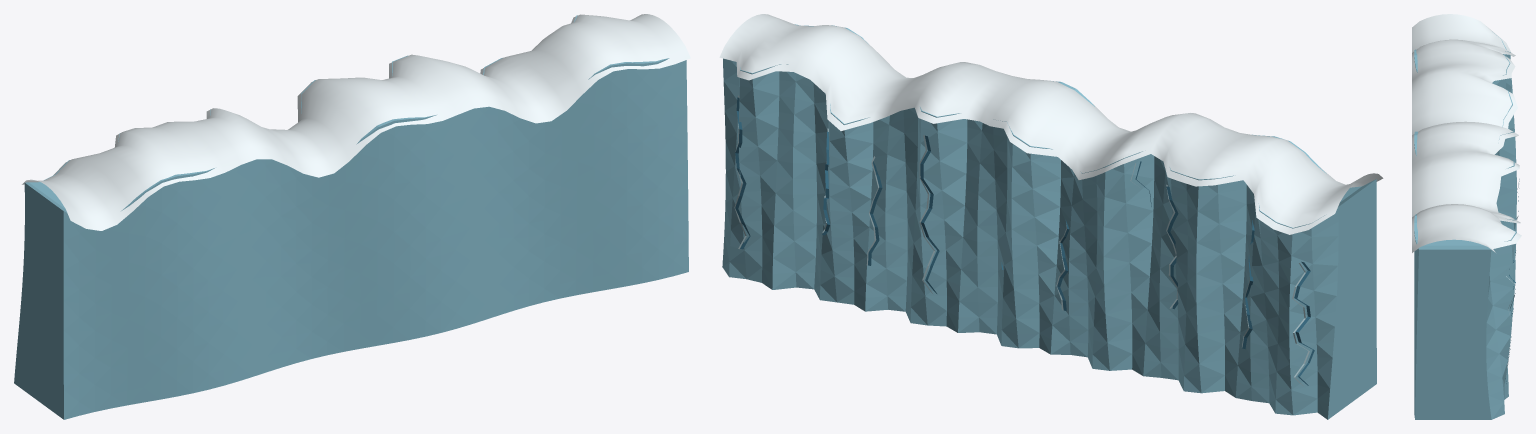
The model's file is ice-wall.glb.
3 renders of one model, left to right at view 1: azimuth 30°, elevation 25°; view 2: azimuth 150°, elevation 25°; view 3: azimuth 270°, elevation 25°, orthographic. The views are drawn at different scales.
Parts seen in each view (by area): view 1: glacier_wall; view 2: glacier_wall; view 3: glacier_wall.
Part boxes in pixels (box(x1,y1,x2,y2)): glacier_wall: box(14, 14, 690, 419); glacier_wall: box(719, 14, 1383, 419); glacier_wall: box(1412, 14, 1521, 419).
Size of the model in its own units: 10 by 3.67 by 1.98.
